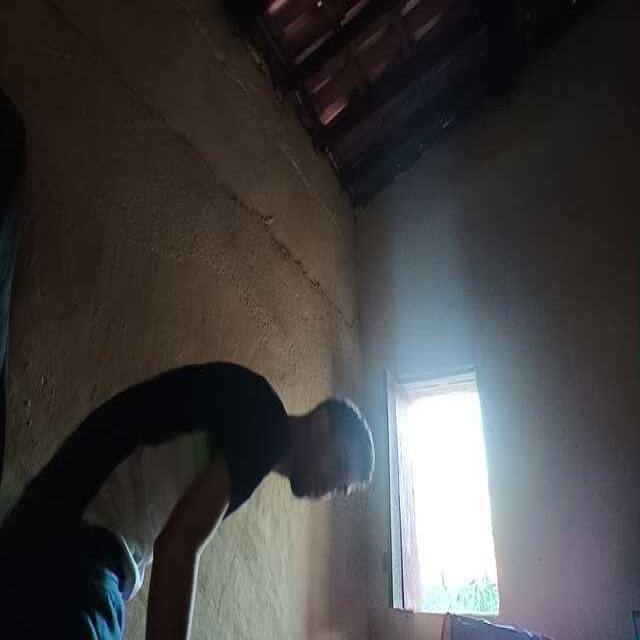colete: (439, 608, 564, 640)
pessoa: (0, 361, 379, 640)
